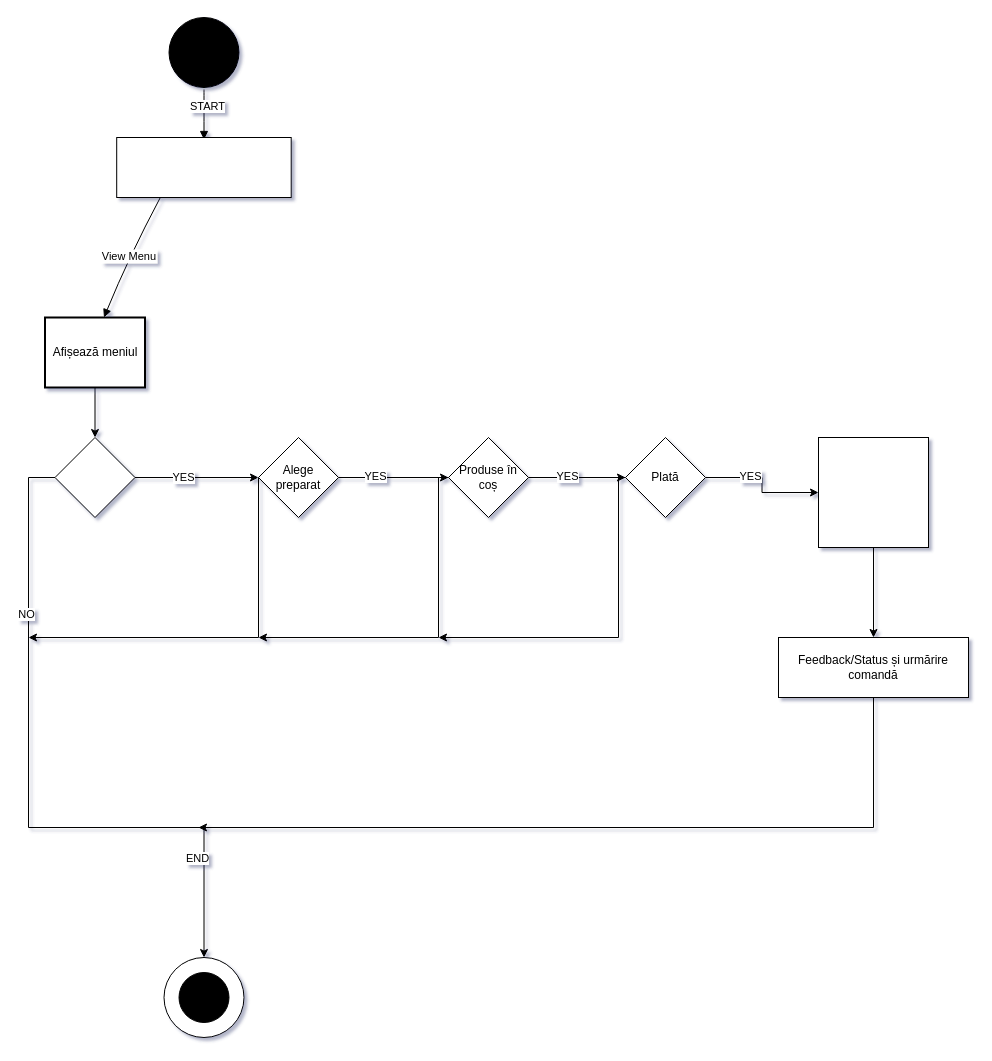
The diagram is 992 pixels wide and 1061 high, and some of its shapes have lost their labels. The centre of each missing label's shape, as x and y in pixels:
"Alege restaurant" belongs at pixel 94 477.
"Deschide aplicația" belongs at pixel 203 167.
"generare număr de ordine" belongs at pixel 873 492.
